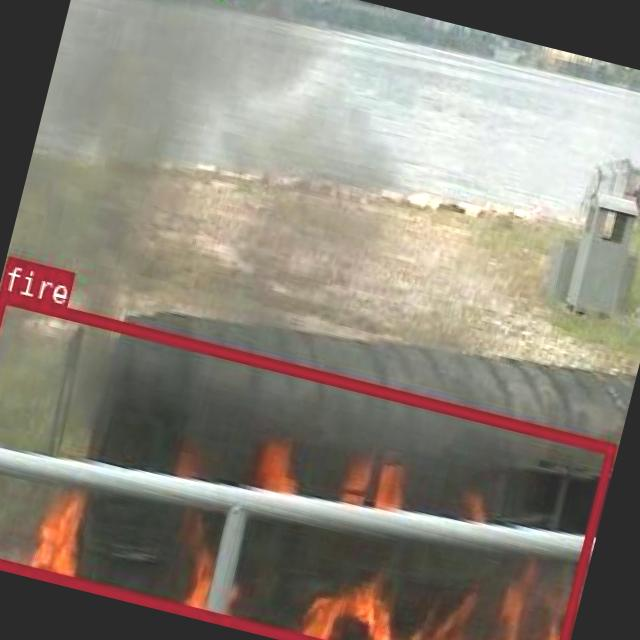fire: (0, 289, 614, 640)
